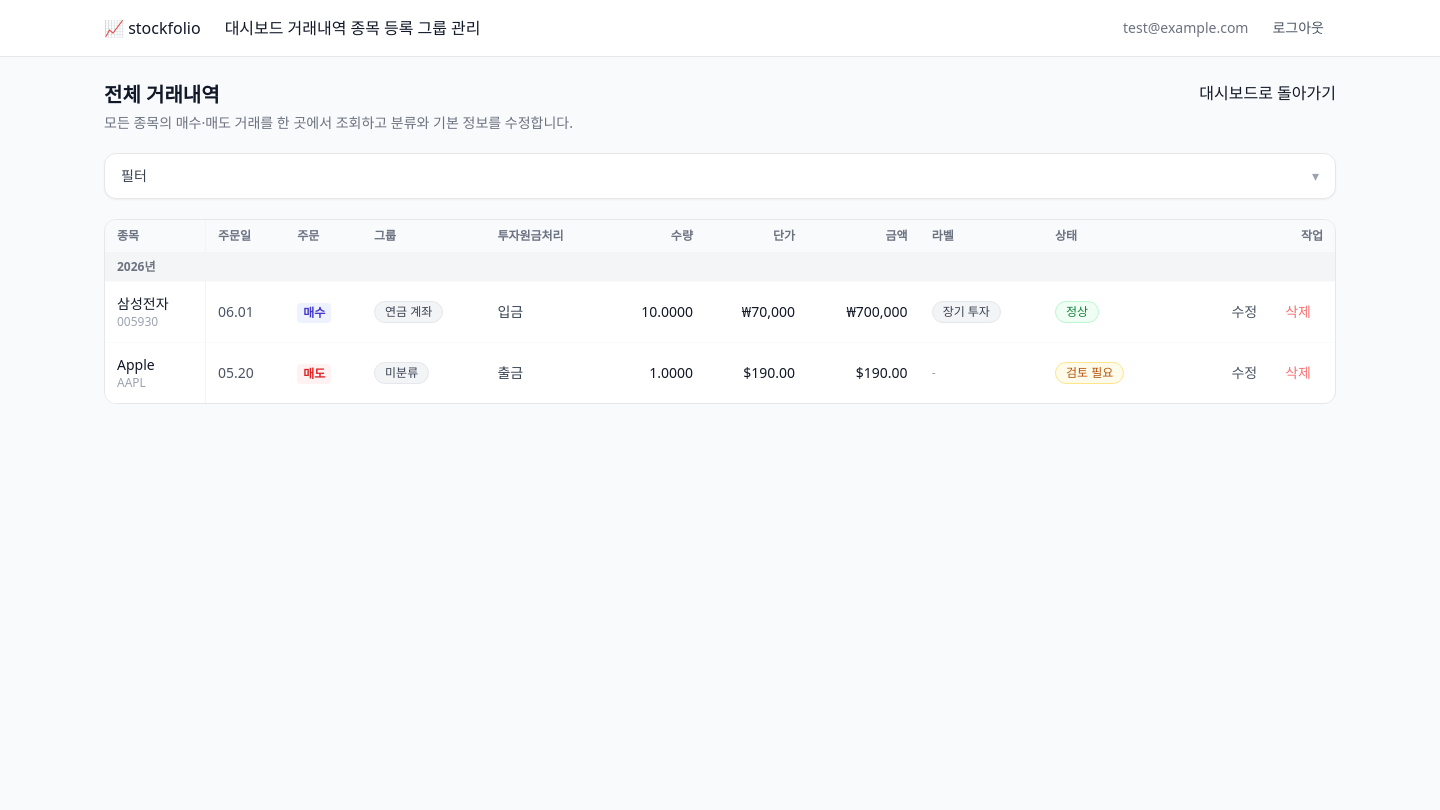
Test: TransactionsPage › limits principal flow options by transaction type
Click the button "수정" in the row of "Apple" at coordinates (1244, 373), box [1220,357,1269,389]
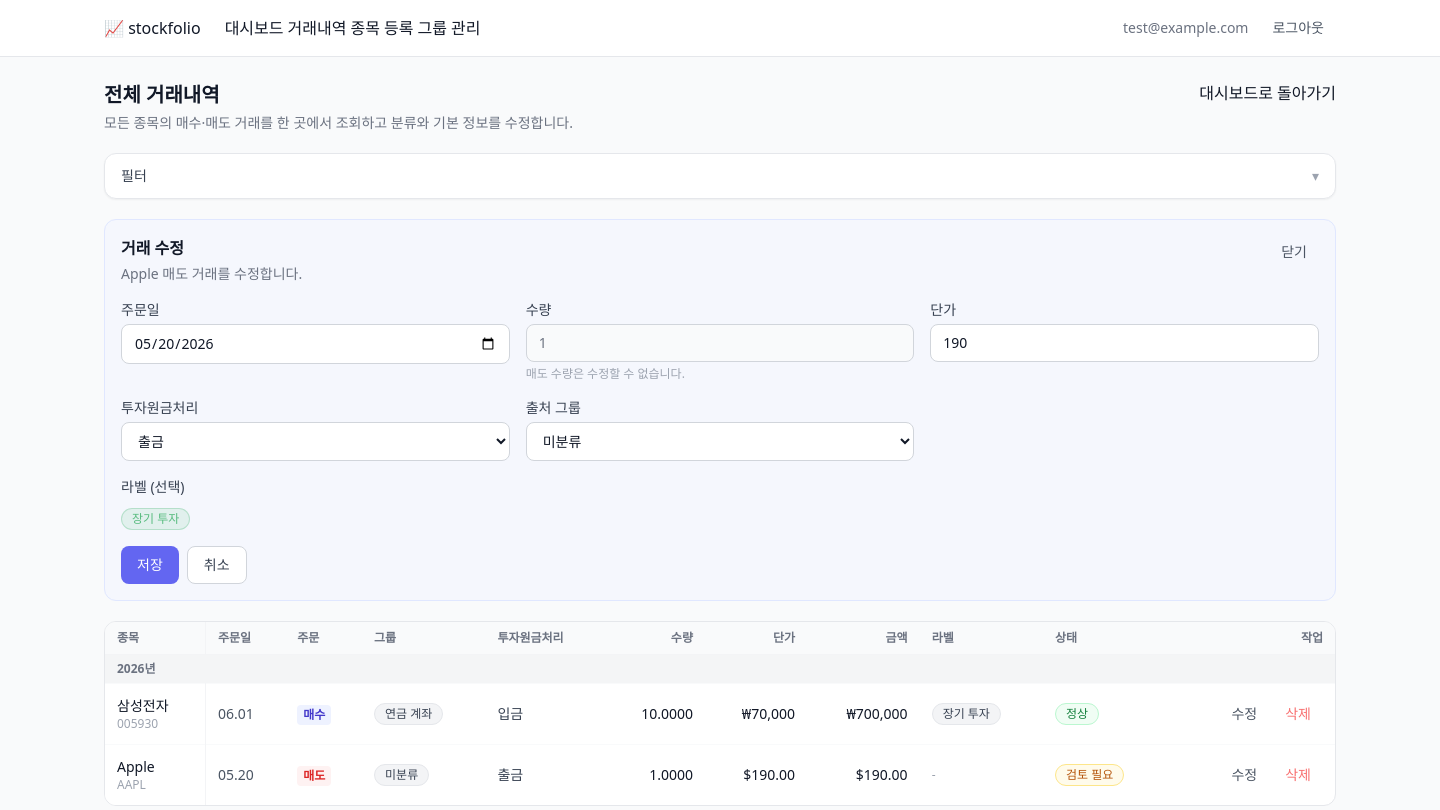
Expected: the dropdown labelled "투자원금처리" does not show "입금", [121,422,510,461]
Now the number field labelled "수량" is disabled, box [526,324,914,362]
